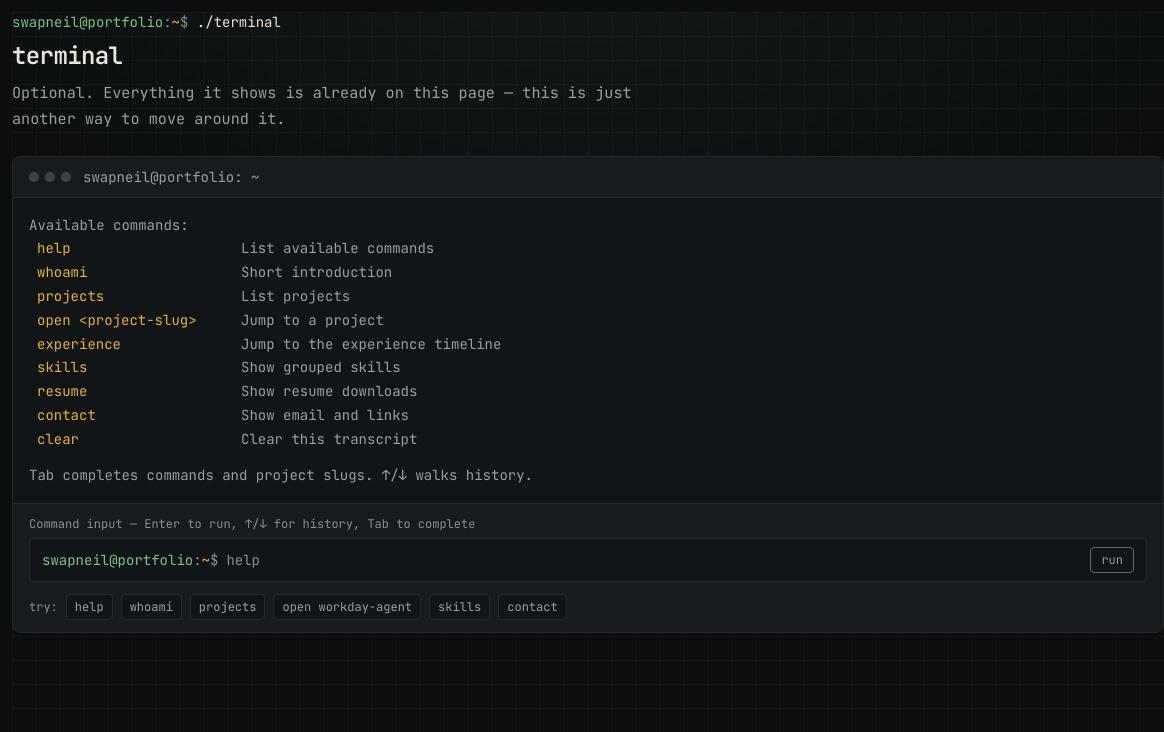
Test: TerminalPanel › echoes the command and prints its output on Enter
In the field labelled "Command input": (654, 560) [226,550,1082,570], type "whoami"
Then press Enter
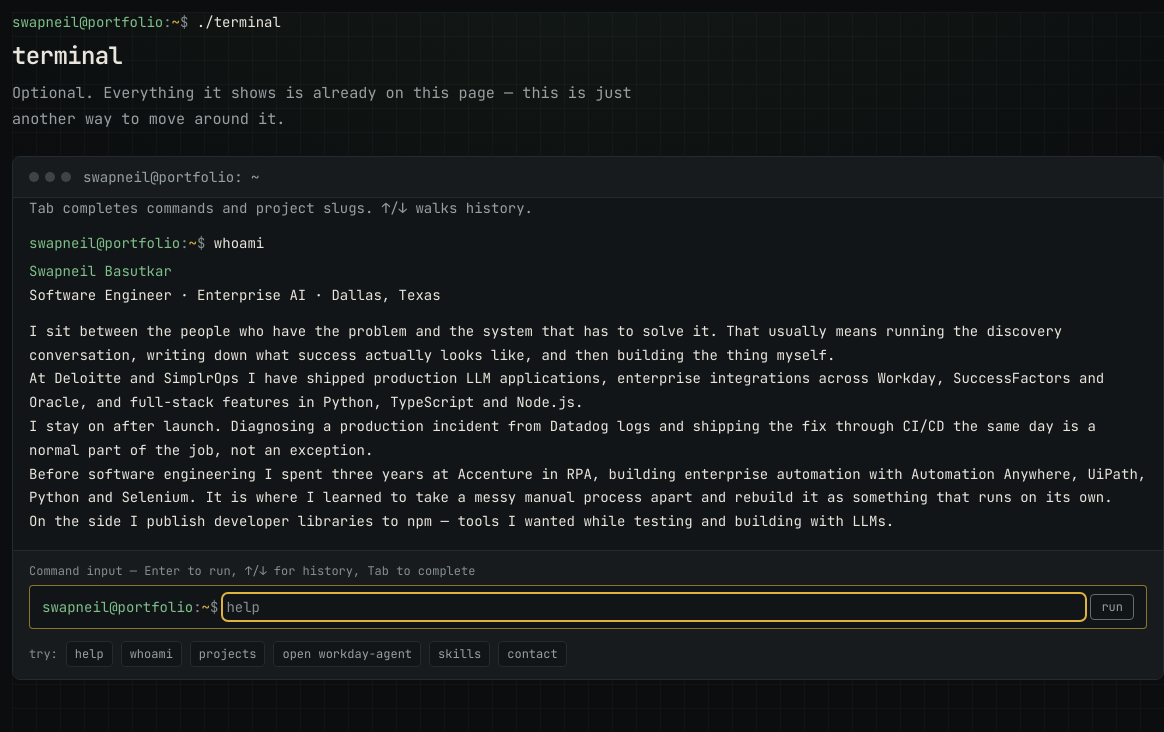
Check: the field labelled "Command input" is empty, box [226,597,1082,617]
Check: the text "Swapneil Basutkar" is shown, box [29,262,172,280]
